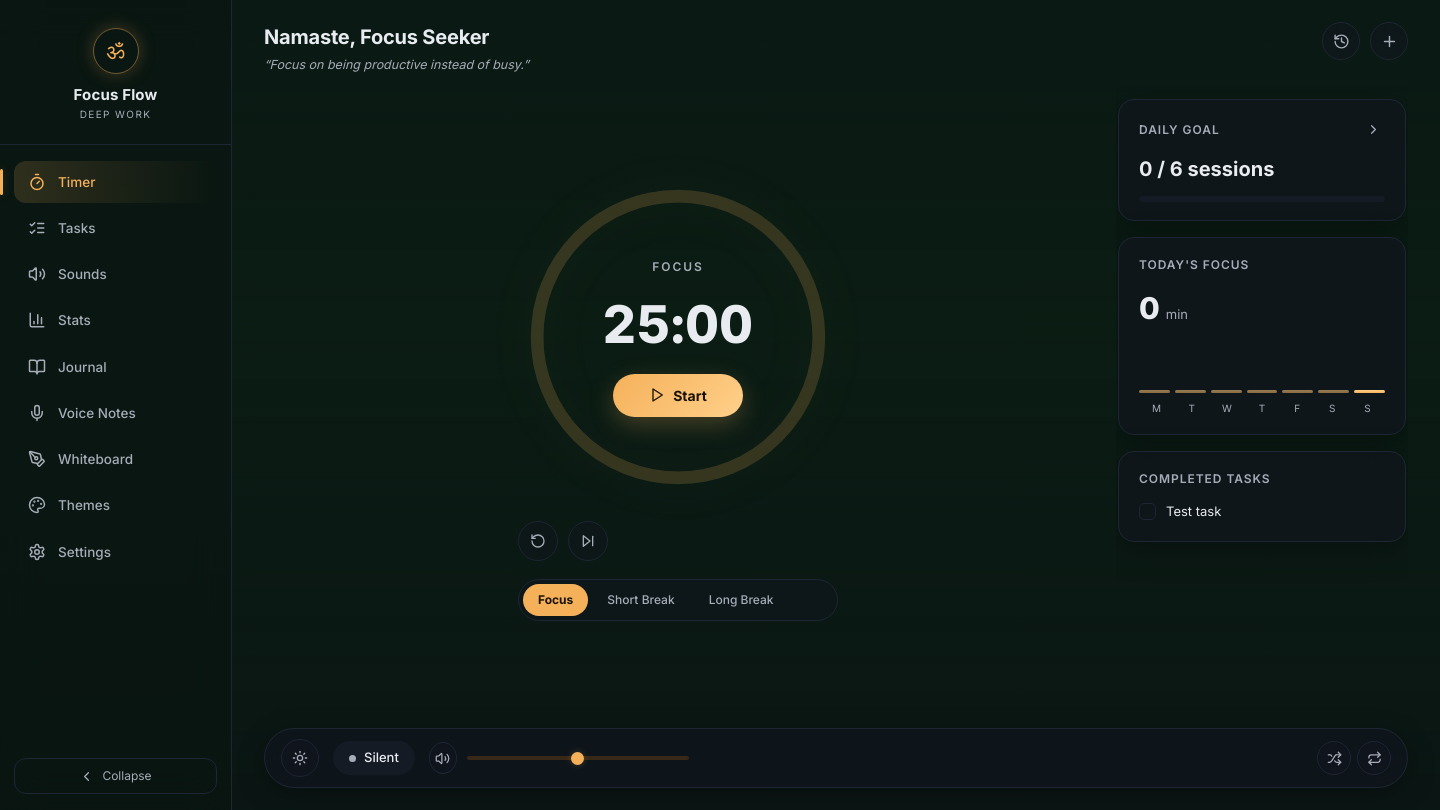
Test: FocusFlow Home Page › switches to the Tasks view and shows existing tasks
The width and height of the screenshot is (1440, 810).
Click the button "Tasks".
click(116, 228)  # box [14,207,217,249]
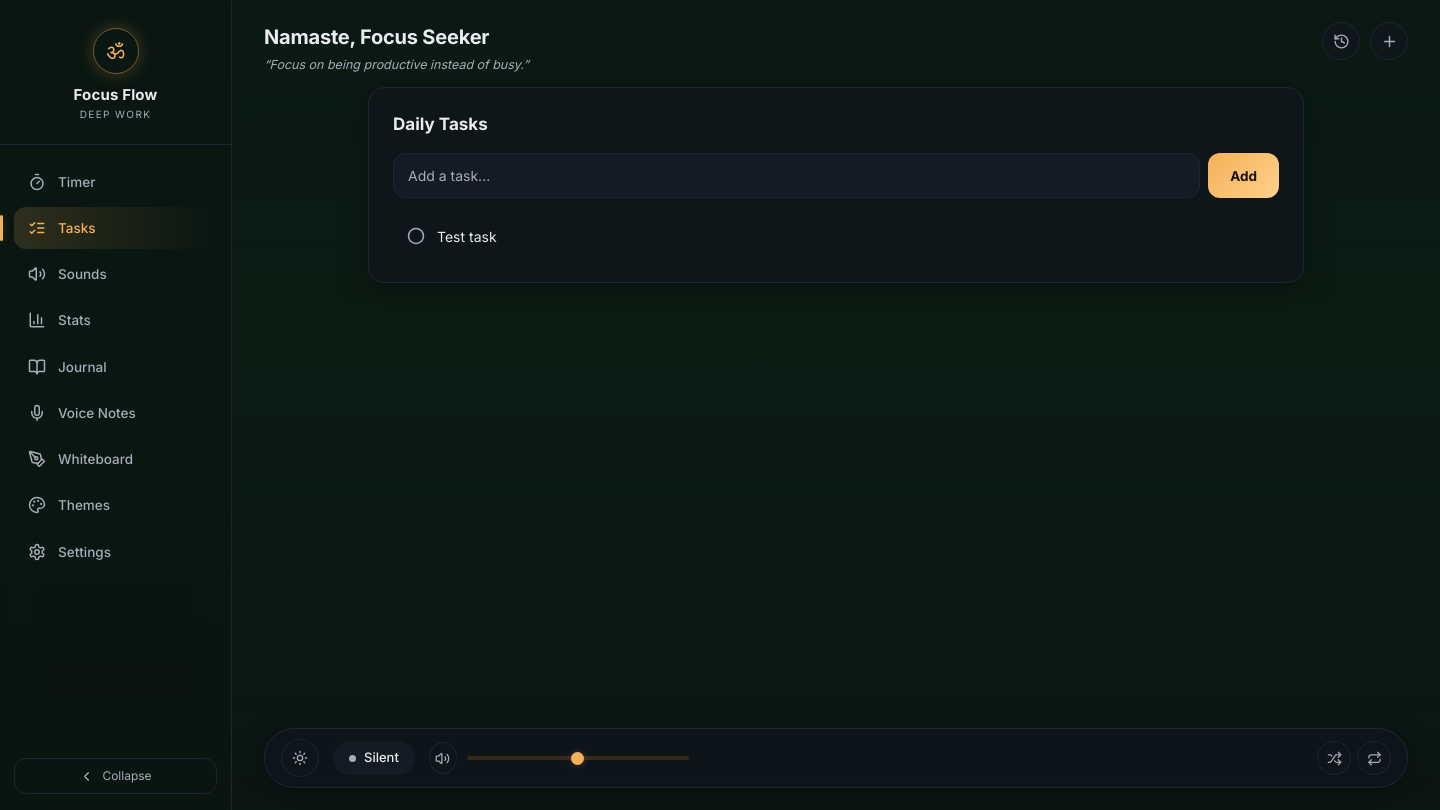
expect the text "Test task" is shown: met, box [437,228,497,245]
expect the field with placeholder "Add a task..." is shown: met, box [393,153,1200,198]
